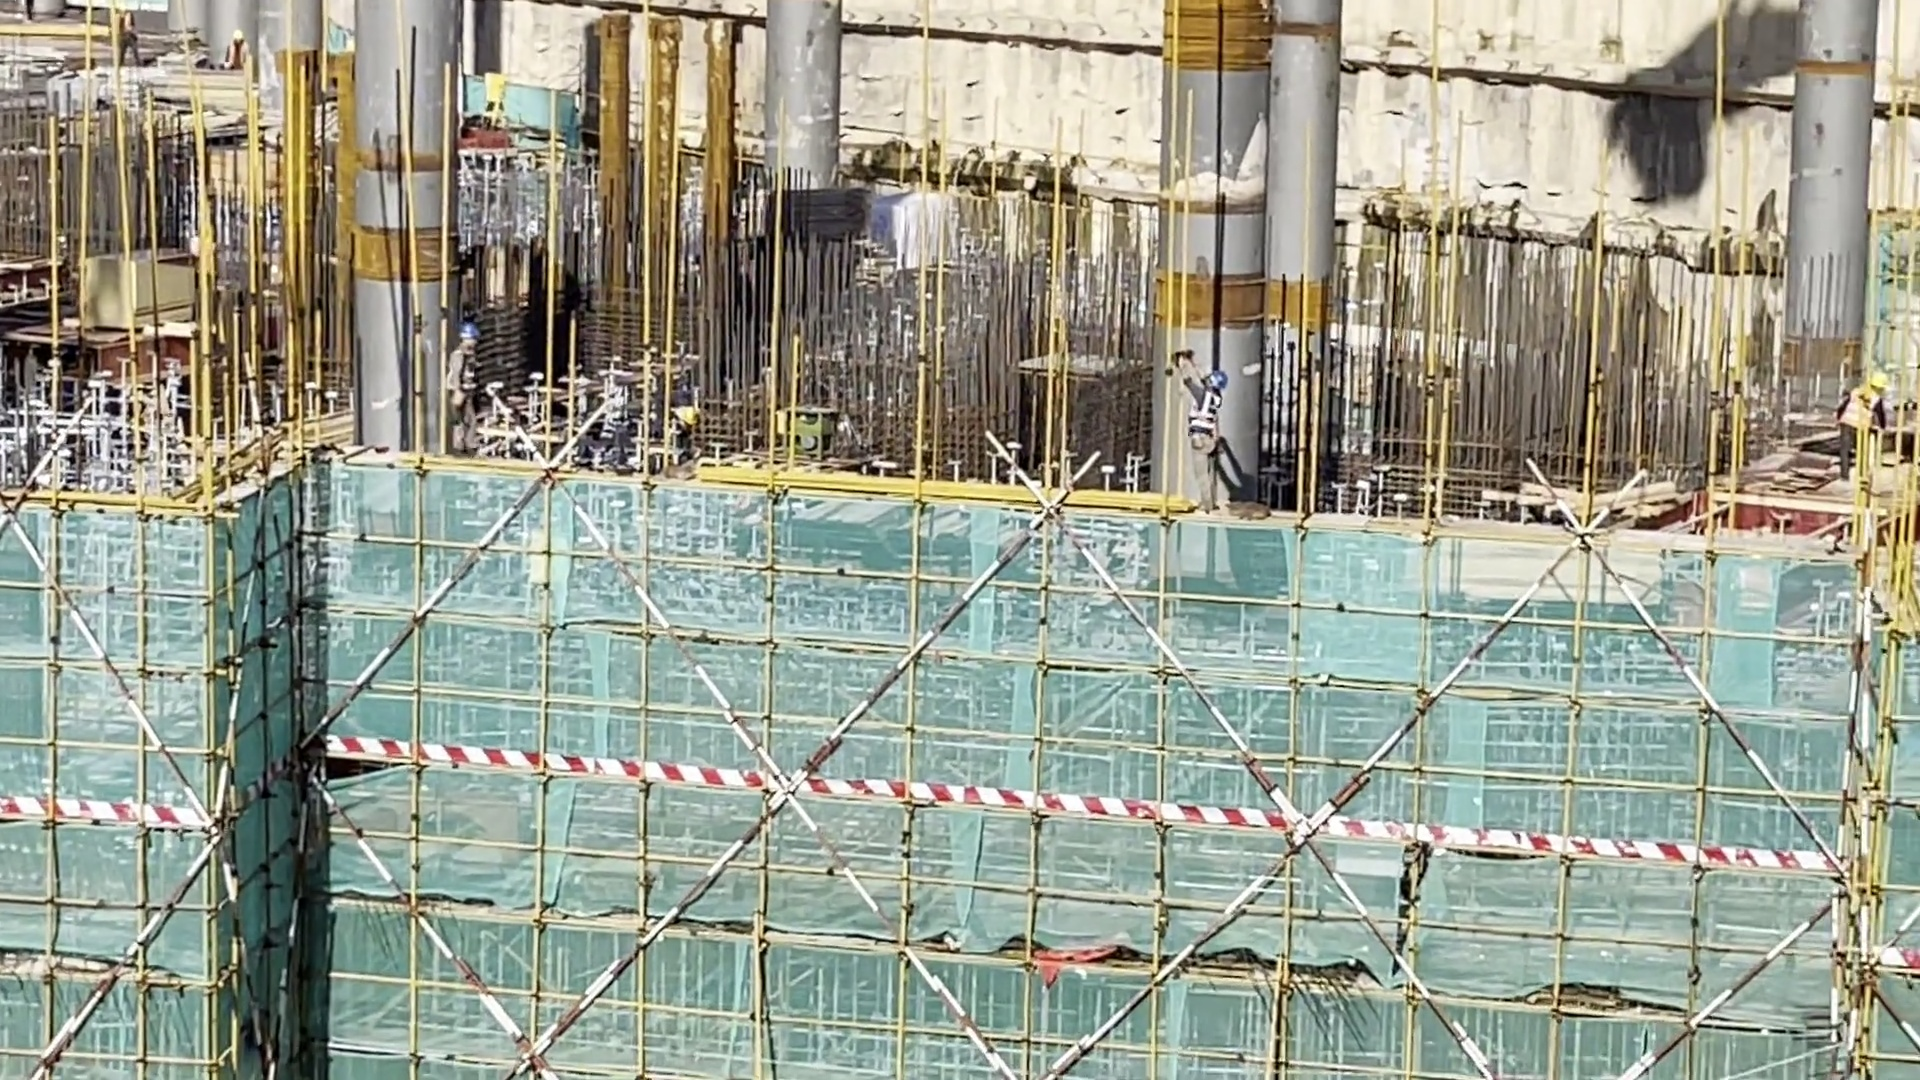board: (78, 247, 198, 327)
ebox: (473, 74, 511, 114)
helmet: (1203, 371, 1229, 392), (1867, 373, 1892, 391), (449, 331, 479, 344), (1209, 366, 1229, 384), (684, 407, 696, 429), (234, 26, 244, 38), (119, 3, 129, 14)
person: (1178, 361, 1229, 498), (1833, 363, 1884, 478), (443, 321, 483, 436), (673, 391, 709, 470), (216, 30, 259, 88), (106, 8, 139, 56)
vest: (446, 357, 491, 401), (1178, 396, 1221, 439), (1837, 390, 1876, 429), (226, 41, 243, 69), (118, 19, 132, 44)
